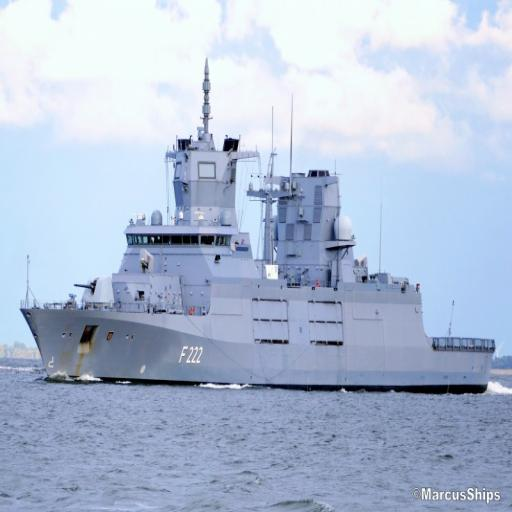Fragata: (22, 135, 498, 396)
